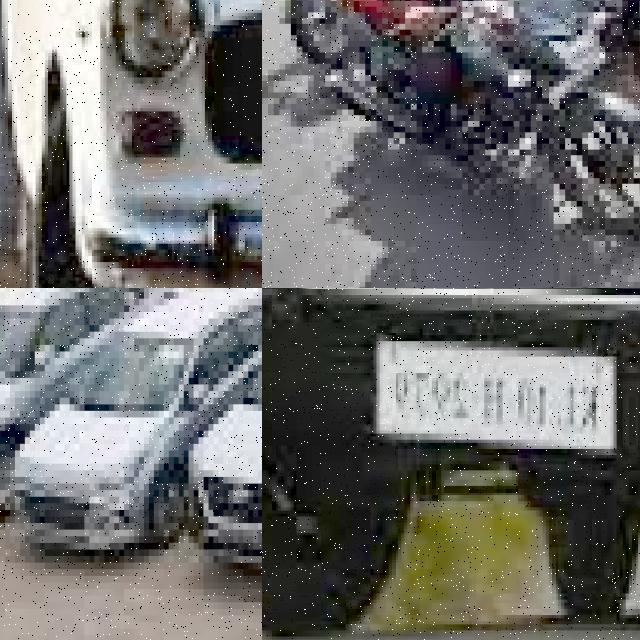bike: (308, 0, 640, 241), (530, 0, 640, 92)
car: (262, 288, 640, 640), (0, 0, 262, 288), (10, 288, 178, 622), (191, 288, 262, 625)
